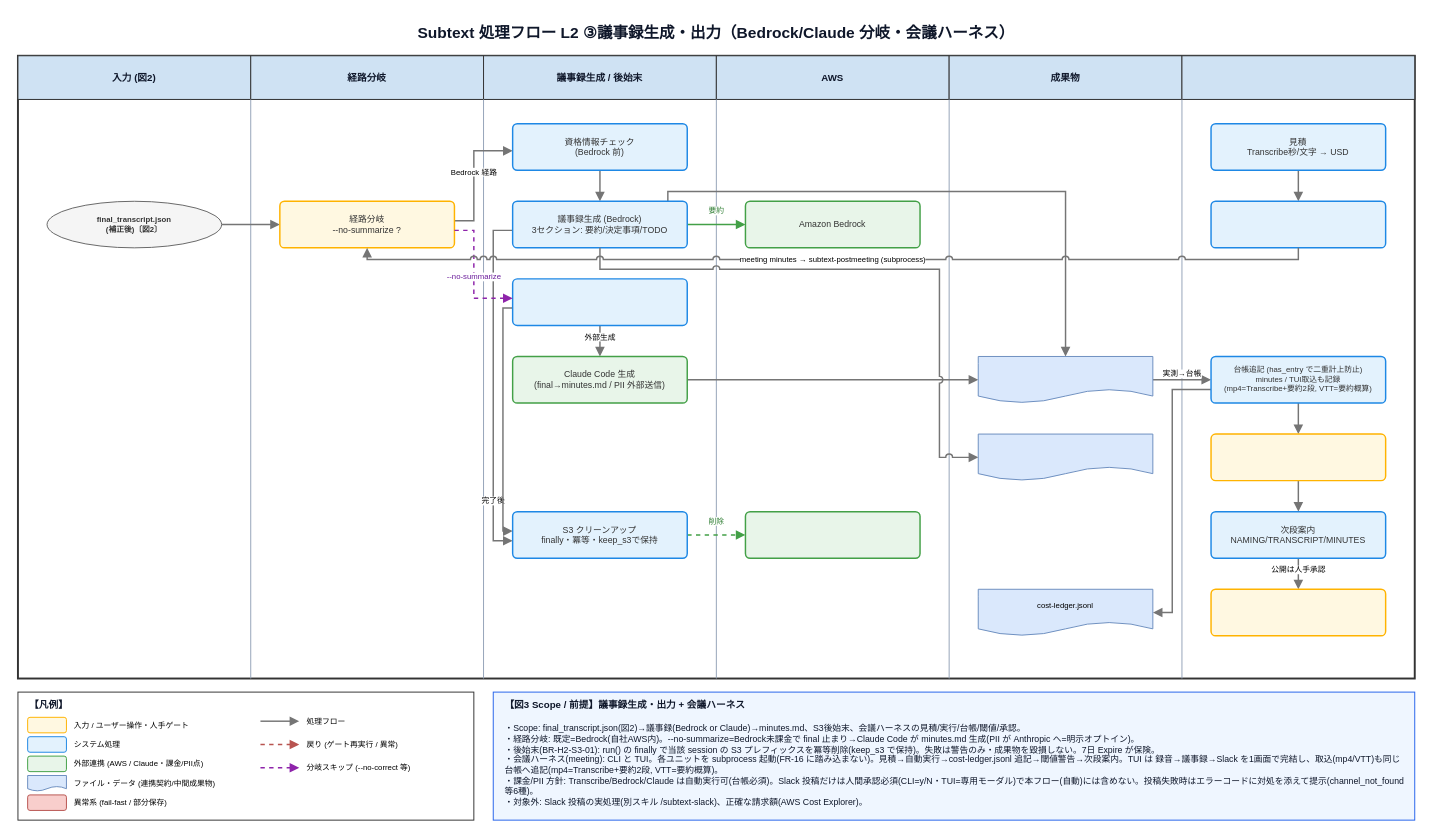
This 1432x837 diagram has some shape labels left out. The centre of each missing label's shape, as x and y in pixels:
"Amazon S3 (図2 upload を削除)" goes at [832,535].
"minutes.md (議事録)" goes at [1065,379].
"minutes.meta.json" goes at [1065,457].
"Slack 投稿 (外部公開) 承認: CLI=y/N / TUI=専用モーダル 失敗時 エラーコード→対処提示(6種)" goes at [1298,612].
"SUMMARIZE_SKIPPED (final 止まり・Bedrock 未課金)" goes at [599,302].
"会議ハーネス meeting (CLI/TUI) + 承認" goes at [1298,77].
"自動実行 (課金境界・台帳必須) CLI minutes / TUI 取込(mp4·VTT) TUI は録音→議事録→Slack を完結" goes at [1298,224].
"閾値警告 単発/月次上限・停止しない" goes at [1298,457].
